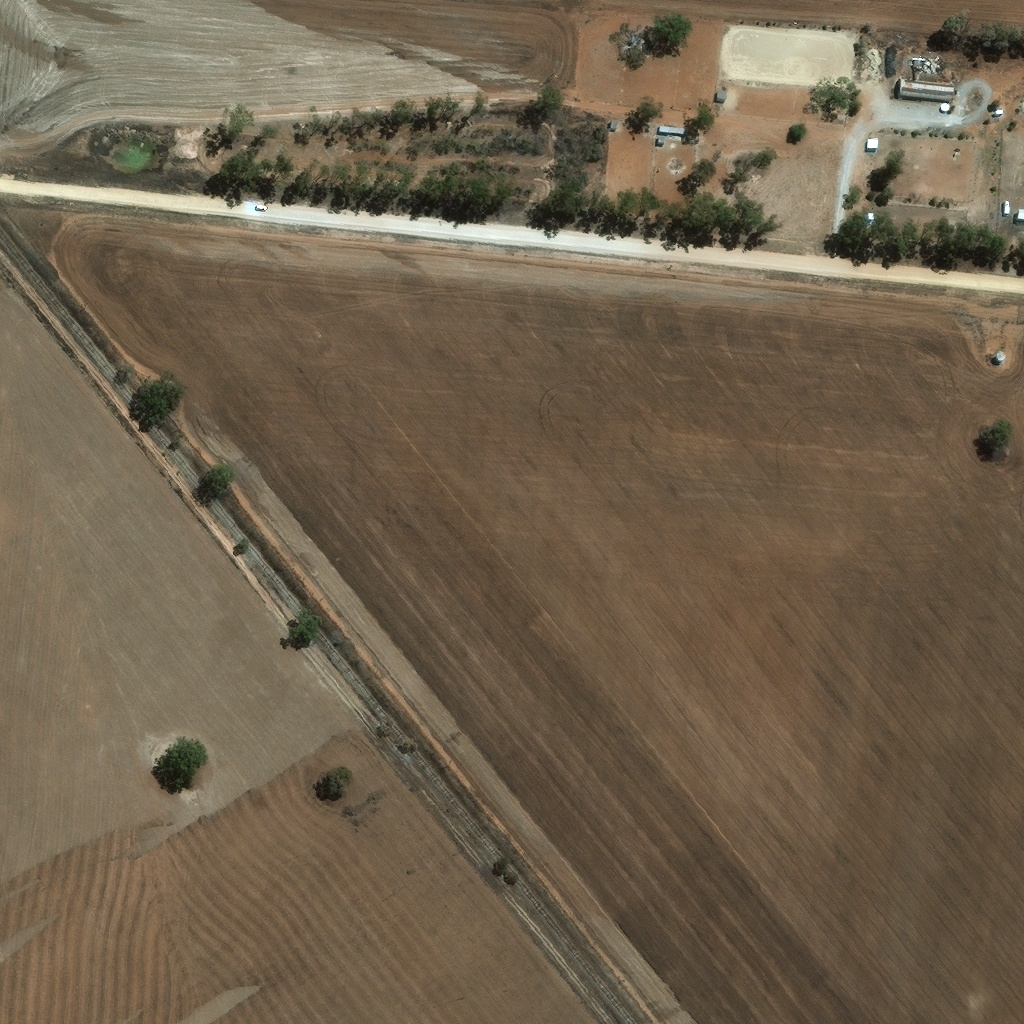0 no-damage: (899, 78, 954, 99), (659, 123, 685, 133), (867, 137, 879, 149), (716, 90, 726, 99), (996, 352, 1006, 361), (941, 101, 950, 109), (610, 122, 618, 130), (868, 211, 875, 220)
3 destroyed: (914, 49, 940, 69)
4 un-classified: (1014, 151, 1023, 185), (1017, 208, 1023, 219), (921, 102, 929, 109)
